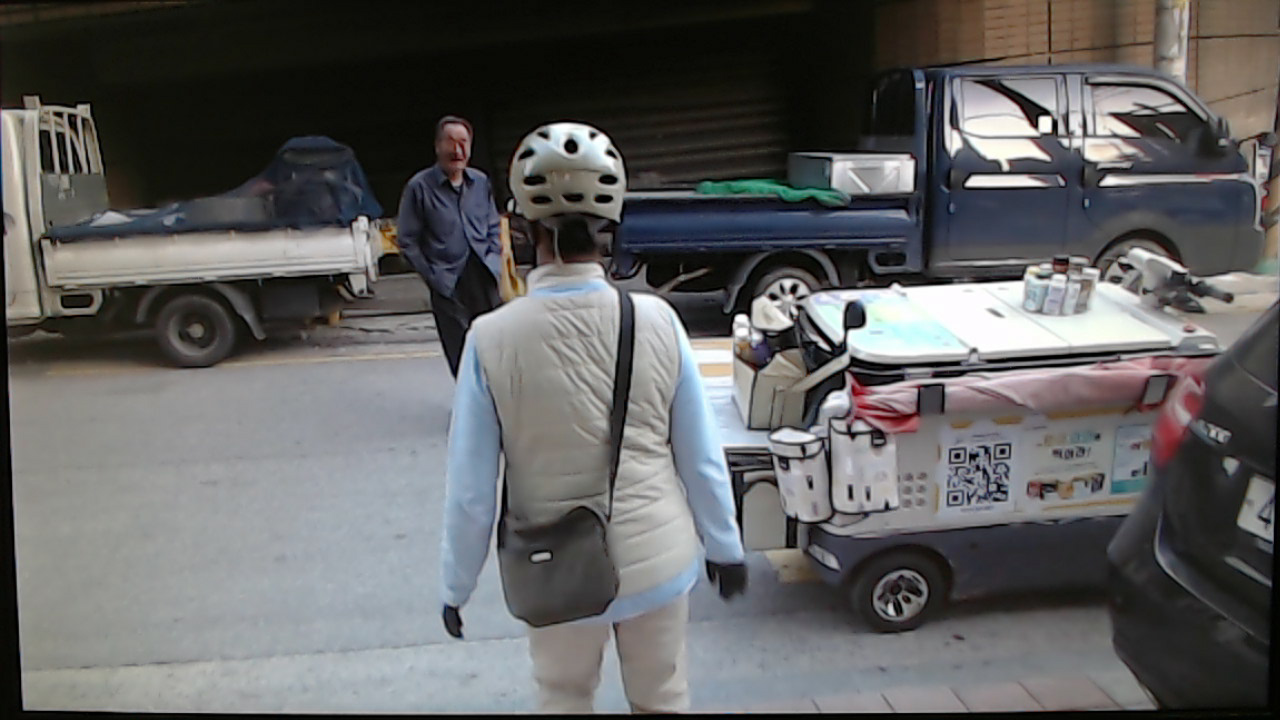Yakurut: (416, 123, 782, 720)
